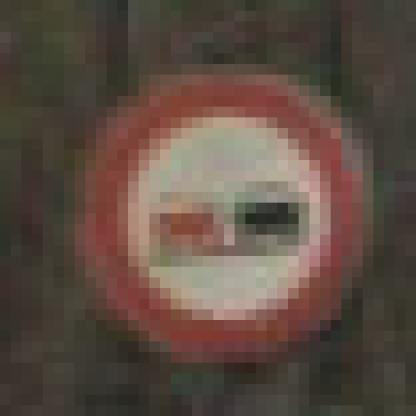No Overtaking: (65, 54, 364, 364)
